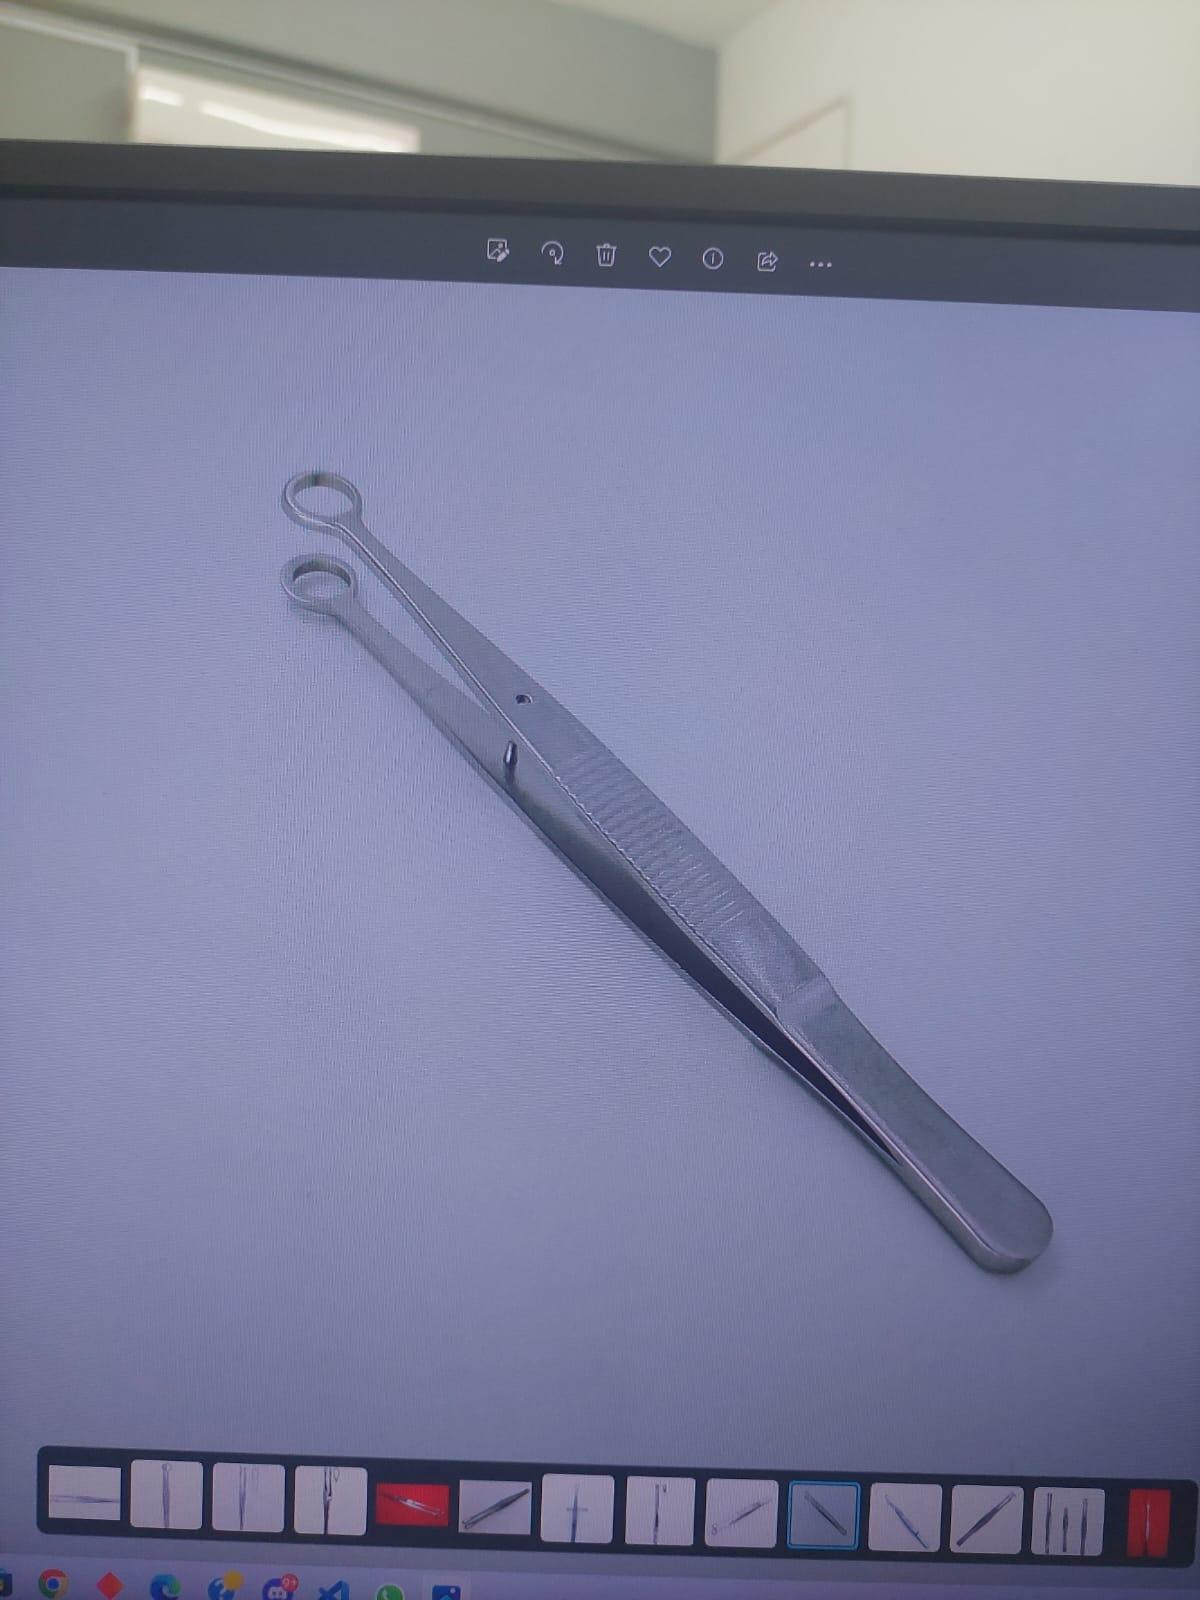Eye Intestinal Forceps: (267, 450, 1070, 1303)
